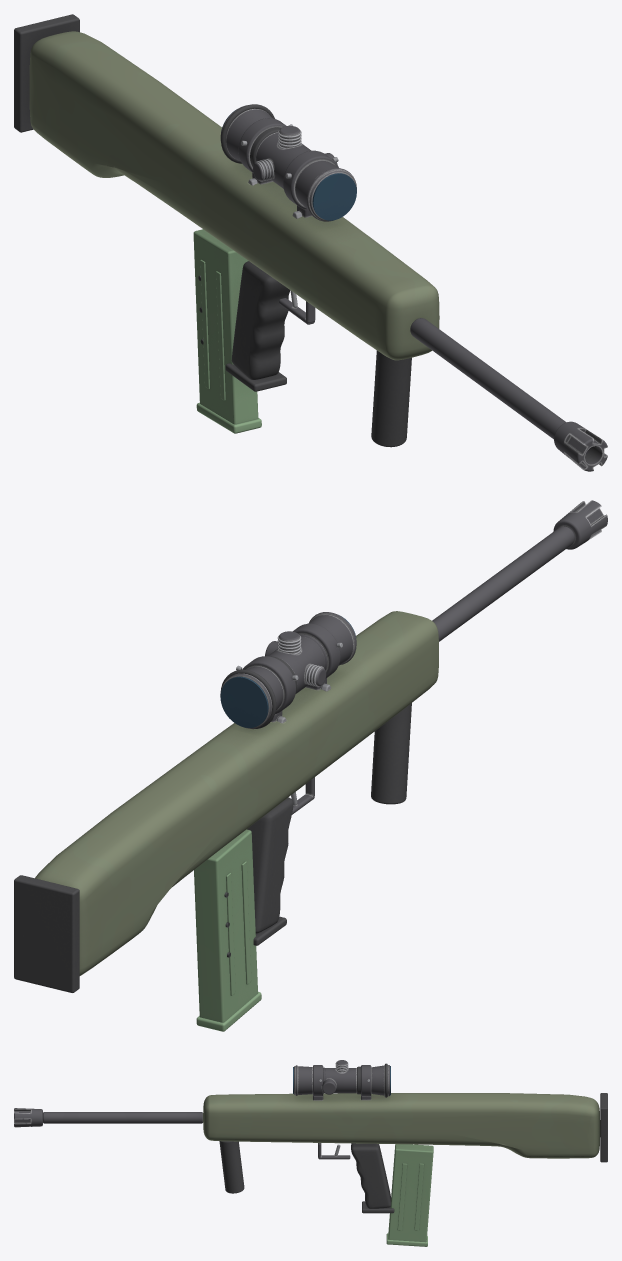
Rendered from aug.fbx.
3 renders of one model, top to bottom at view 1: azimuth 30°, elevation 25°; view 2: azimuth 150°, elevation 25°; view 3: azimuth 270°, elevation 25°, orthographic. The views are drawn at different scales.
Parts seen in each view (by area): view 1: aug; view 2: aug; view 3: aug.
Boxes of the visible parts, x1,y1,x2,y2 form: aug: [14, 14, 607, 471]; aug: [14, 500, 607, 1031]; aug: [14, 1060, 607, 1246].
Size of the model in its own units: 0.062 by 0.3127 by 0.927.
